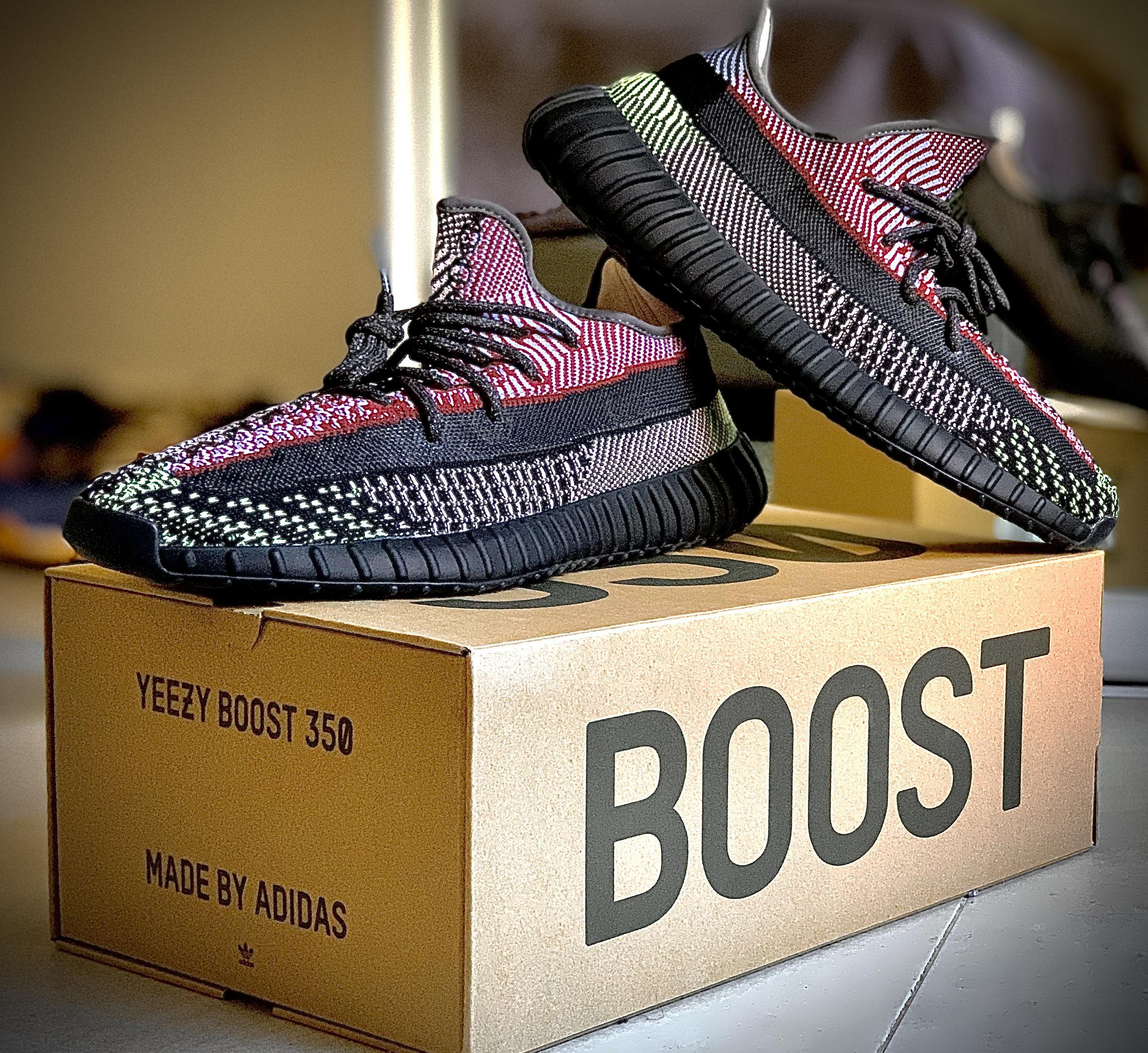sneaker: (507, 0, 1142, 560), (54, 181, 778, 625)
